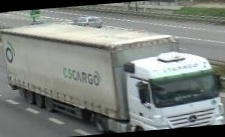truck: (2, 11, 225, 137)
